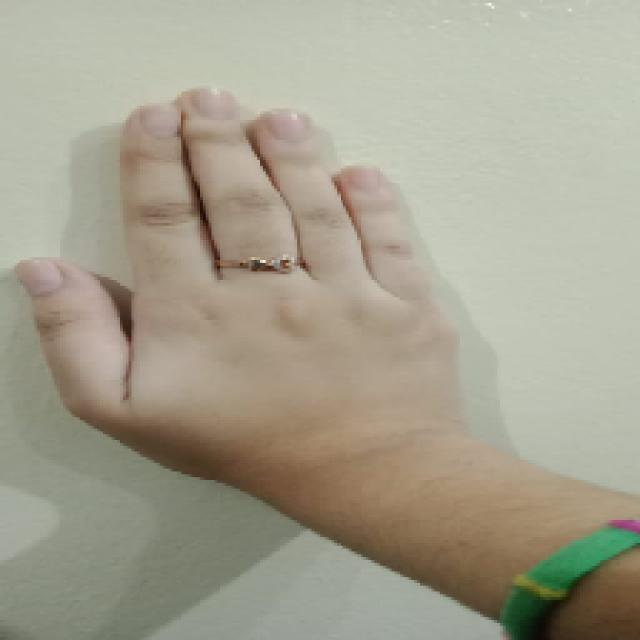Nail: (16, 258, 64, 296), (191, 89, 239, 119), (266, 109, 309, 142), (140, 105, 179, 138), (351, 169, 381, 191)
